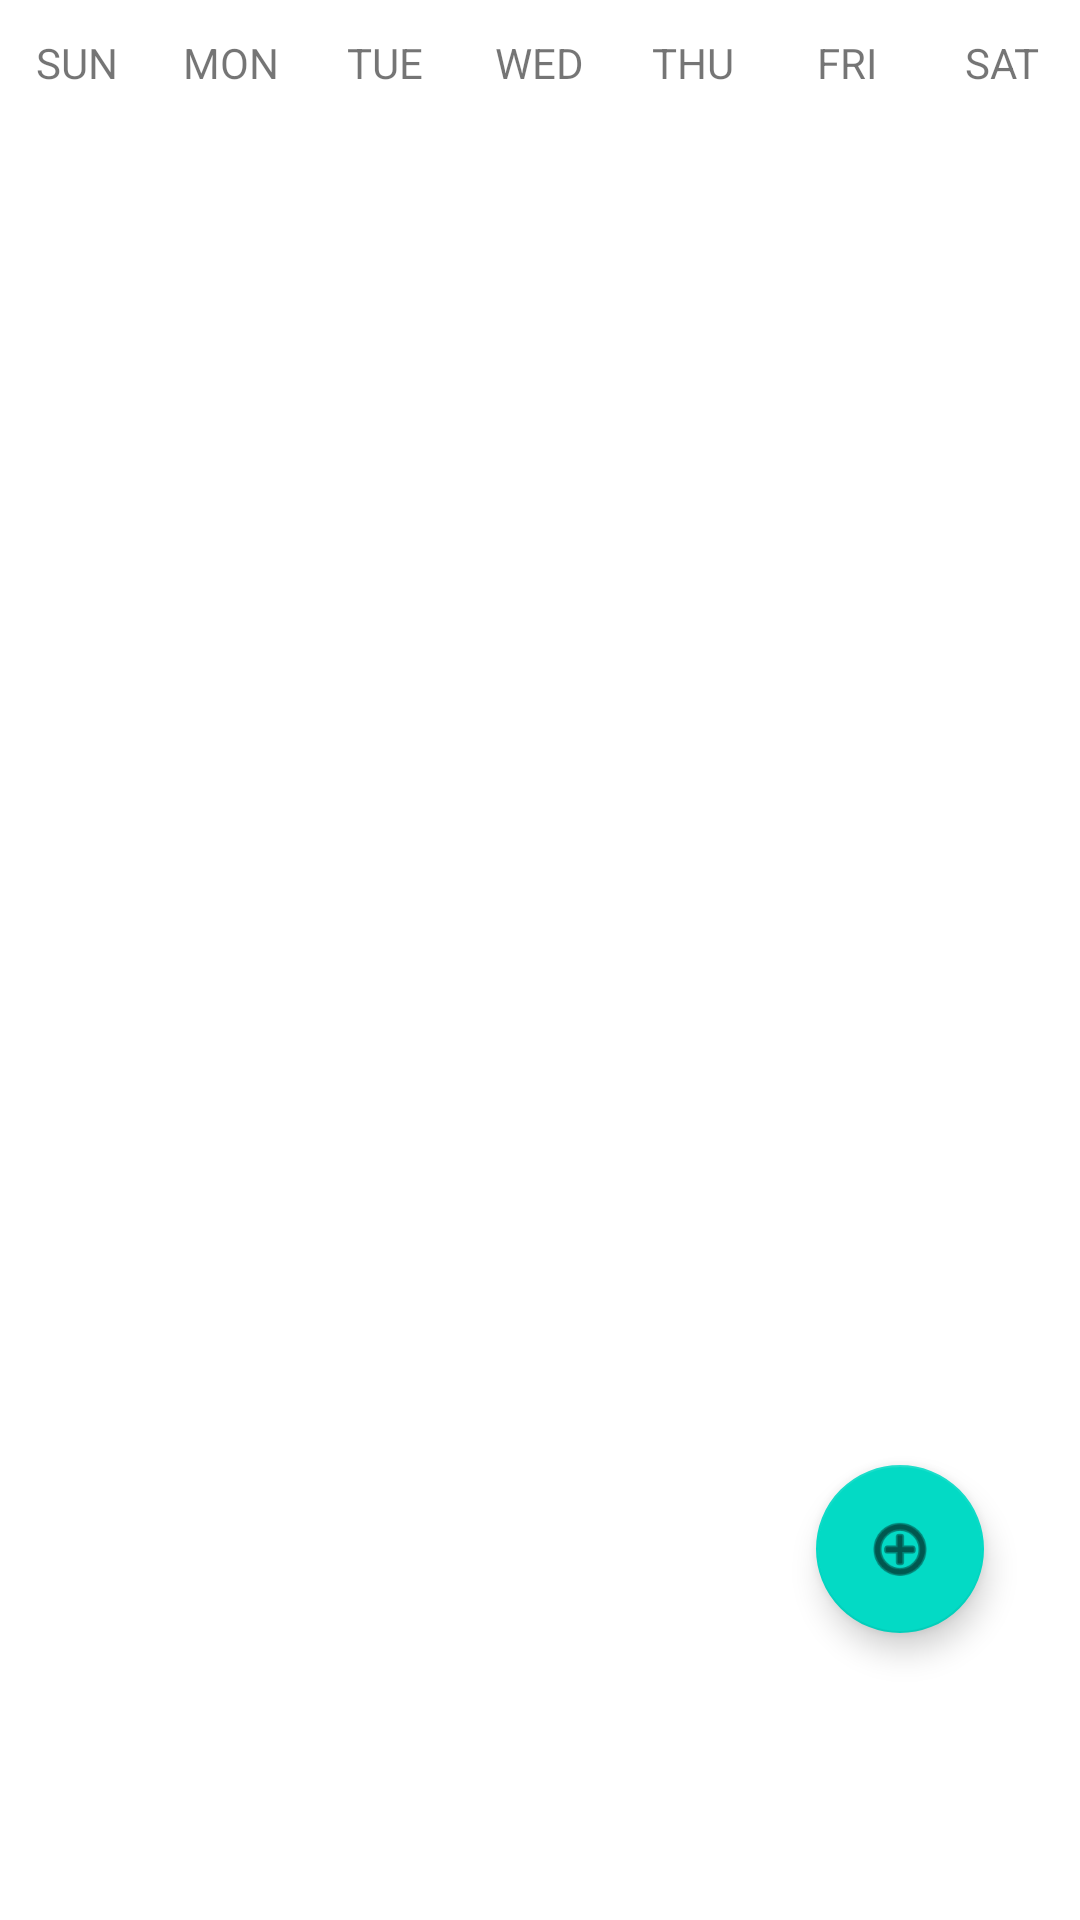

Screen size 1080*1920. Icon name, then its center in pixels as (x,y):
add: (900,1549)
